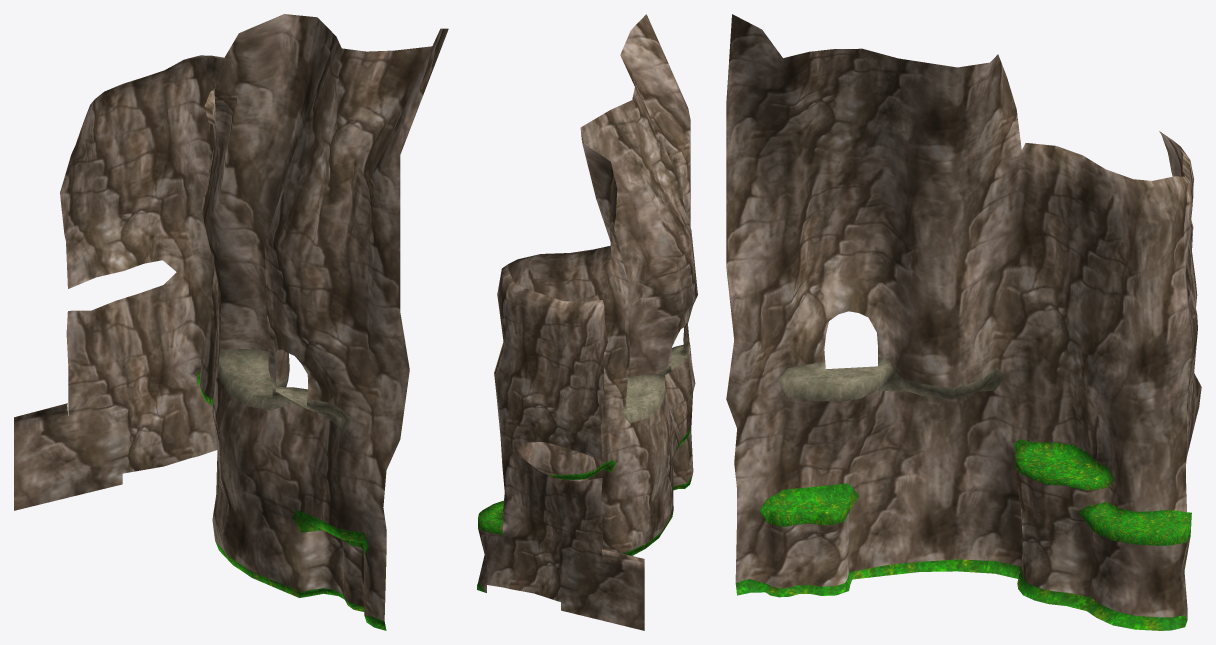
The model's file is EKH_ENTRANCE_PS_EN_WALL_CHUNK471__GX.fbx.
3 renders of one model, left to right at view 1: azimuth 30°, elevation 25°; view 2: azimuth 150°, elevation 25°; view 3: azimuth 270°, elevation 25°, orthographic. The views are drawn at different scales.
Parts seen in each view (by area): view 1: EKH_ENTRANCE_PS_EN_WALL_CHUNK471__GX; view 2: EKH_ENTRANCE_PS_EN_WALL_CHUNK471__GX; view 3: EKH_ENTRANCE_PS_EN_WALL_CHUNK471__GX.
Boxes of the visible parts, <box> form: EKH_ENTRANCE_PS_EN_WALL_CHUNK471__GX: <box>14,14,448,630</box>; EKH_ENTRANCE_PS_EN_WALL_CHUNK471__GX: <box>477,14,697,630</box>; EKH_ENTRANCE_PS_EN_WALL_CHUNK471__GX: <box>726,14,1201,630</box>.
Bounding box in the file's own units: 94555 × 235910 × 166070.
3 materials, 3 textured.
